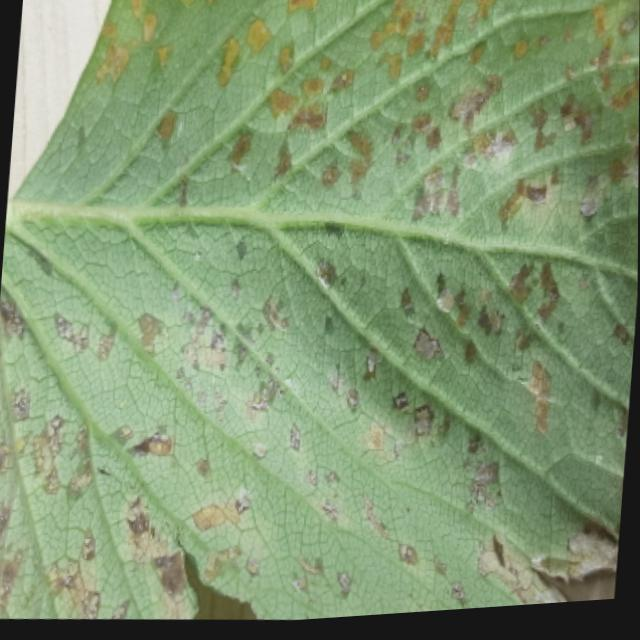Angular Leafspot: (0, 0, 640, 624)
